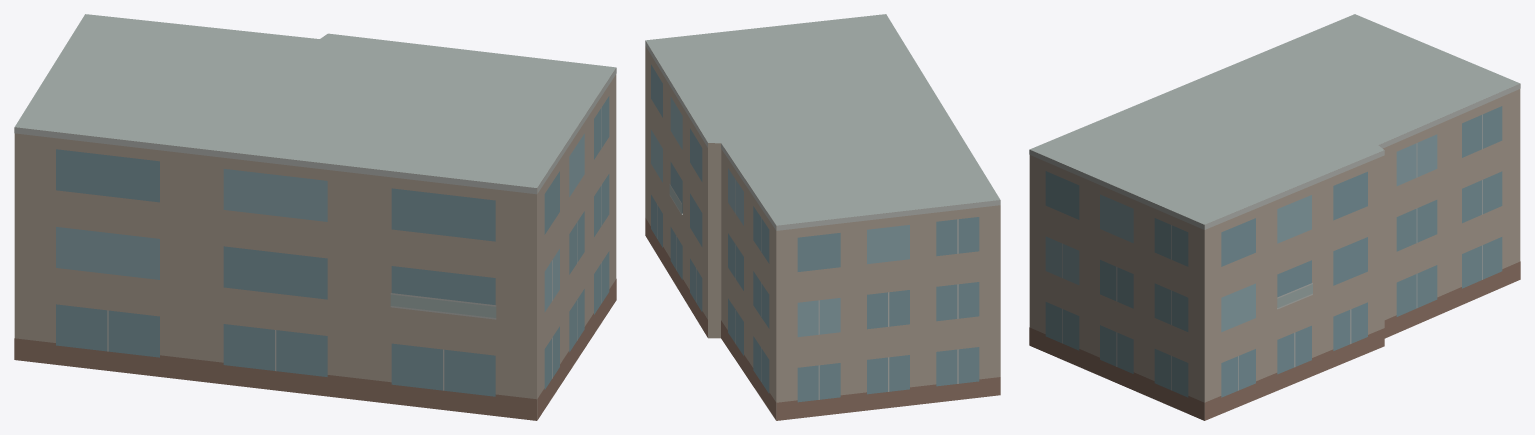
File: survey-upis-32752686.glb
3 renders of one model, left to right at view 1: azimuth 30°, elevation 25°; view 2: azimuth 150°, elevation 25°; view 3: azimuth 270°, elevation 25°, orthographic. The views are drawn at different scales.
Parts seen in each view (by area): view 1: survey-upis-32752686.tmp; view 2: survey-upis-32752686.tmp; view 3: survey-upis-32752686.tmp.
Boxes of the visible parts, x1,y1,x2,y2 form: survey-upis-32752686.tmp: (14, 14, 616, 420); survey-upis-32752686.tmp: (645, 14, 1000, 420); survey-upis-32752686.tmp: (1029, 14, 1520, 420).
Bounding box in the file's own units: 21.1 × 9.15 × 20.77.
